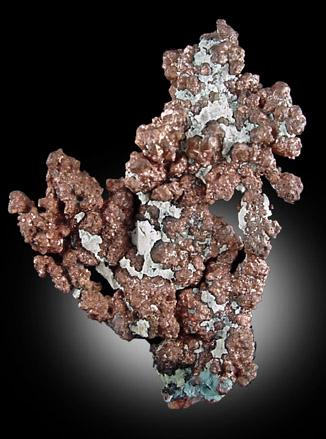copper: (136, 20, 306, 310), (9, 150, 234, 338), (95, 183, 134, 266), (151, 336, 215, 376), (163, 46, 206, 95), (224, 327, 258, 386)
